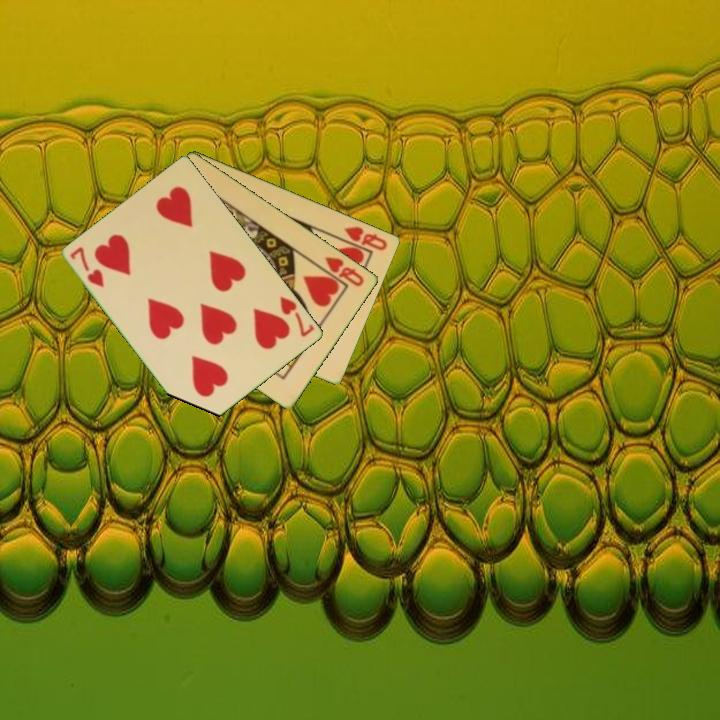7h: (276, 292, 317, 340), (67, 243, 107, 290)
Qh: (321, 253, 367, 289), (340, 222, 390, 253)
